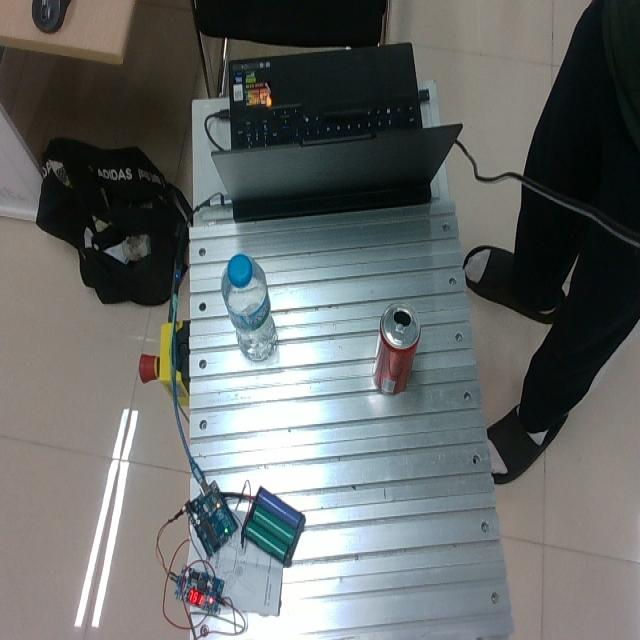coca: (372, 301, 421, 395)
lavie: (221, 252, 277, 361)
